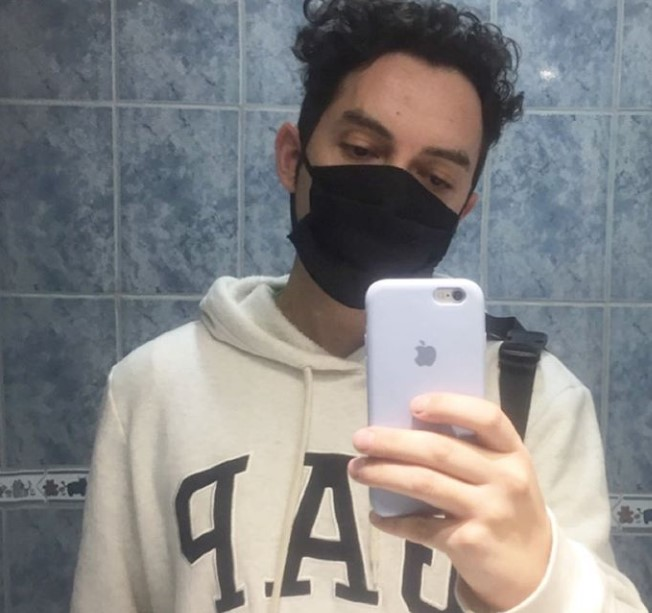face_with_mask: (291, 6, 497, 309)
